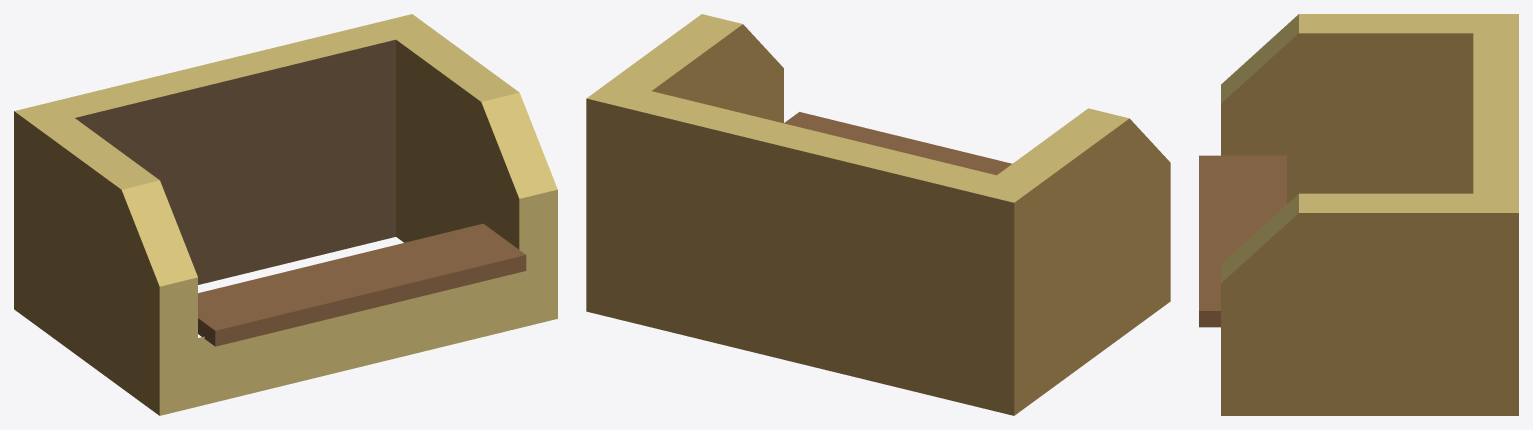
Rendered from anjianting_01.FBX.
3 renders of one model, left to right at view 1: azimuth 30°, elevation 25°; view 2: azimuth 150°, elevation 25°; view 3: azimuth 270°, elevation 25°, orthographic. The views are drawn at different scales.
Parts seen in each view (by area): view 1: anjianting_01; view 2: anjianting_01; view 3: anjianting_01.
Part boxes in pixels (x1,y1,x2,y2): anjianting_01: (14, 14, 557, 415); anjianting_01: (586, 14, 1170, 415); anjianting_01: (1199, 14, 1518, 415).
Bounding box in the file's own units: 139 × 66.34 × 94.65.
